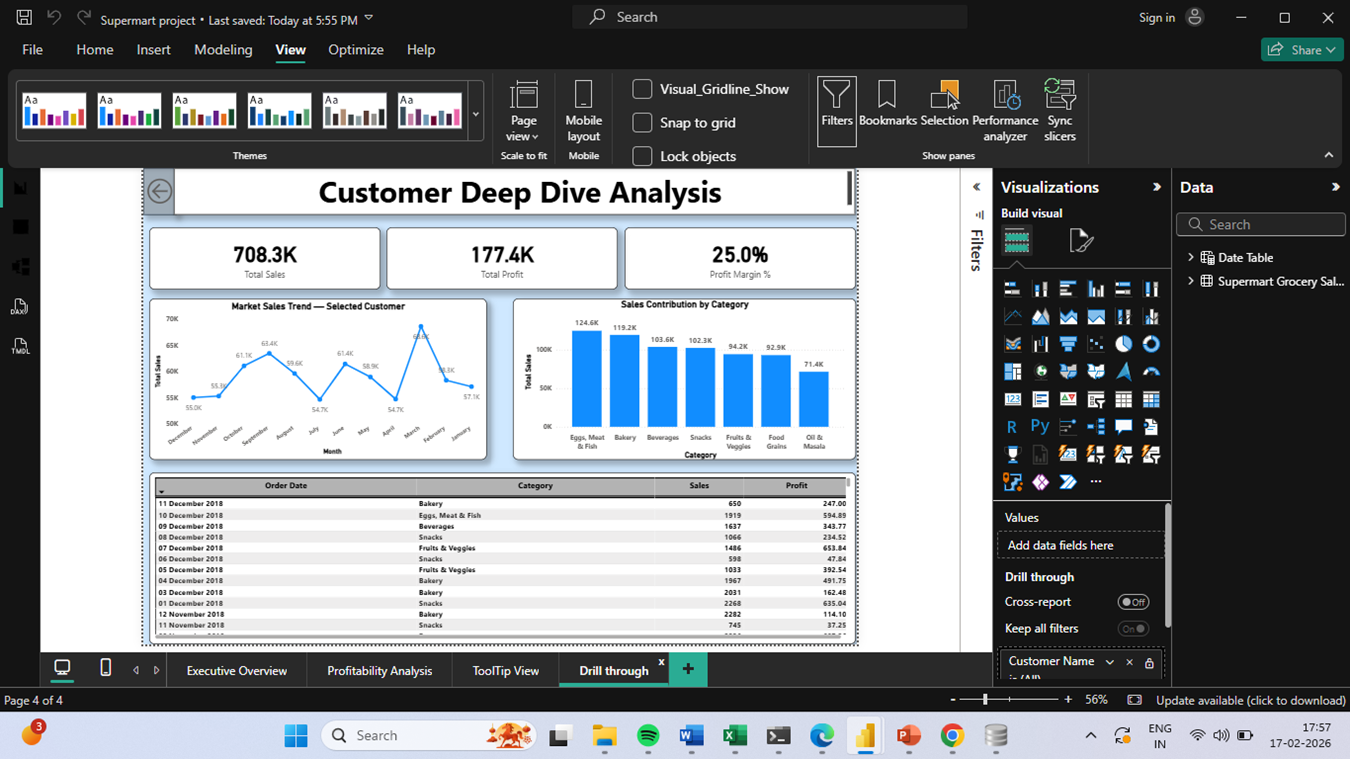

This screenshot's page, from the dashboard's own definition file:
{"tool":"powerbi","page":{"name":"Drill through","canvas":[1294,865],"ordinal":3},"visuals":[{"type":"card","fields":{"Values":["Supermart Grocery Sales - Retail Analytics Dataset (1).Total Sales"]},"box":[10.6,107.7,420.1,113],"z":0},{"type":"card","fields":{"Values":["Date Table.Profit Margin %"]},"box":[873.8,107.7,420.1,113],"z":1000},{"type":"card","fields":{"Values":["Supermart Grocery Sales - Retail Analytics Dataset (1).Total Profit"]},"box":[442.2,107.7,420.1,113],"z":2000},{"type":"lineChart","fields":{"Category":["Supermart Grocery Sales - Retail Analytics Dataset (1).Order Date.Variation.Date Hierarchy.Month"],"Y":["Supermart Grocery Sales - Retail Analytics Dataset (1).Total Sales"]},"box":[10.6,236.6,612.6,293],"z":3000},{"type":"clusteredColumnChart","title":"Sales Contribution by Category","fields":{"Category":["Supermart Grocery Sales - Retail Analytics Dataset (1).Category"],"Y":["Supermart Grocery Sales - Retail Analytics Dataset (1).Total Sales"]},"box":[670.8,236.6,623.2,293],"z":4000},{"type":"tableEx","fields":{"Values":["Supermart Grocery Sales - Retail Analytics Dataset (1).Order Date","Supermart Grocery Sales - Retail Analytics Dataset (1).Category","Supermart Grocery Sales - Retail Analytics Dataset (1).Sales","Supermart Grocery Sales - Retail Analytics Dataset (1).Profit"]},"box":[10.8,552.7,1283.1,312.3],"z":5000},{"type":"actionButton","box":[0,0,60,84.7],"z":6000},{"type":"textbox","box":[56.5,0,1237.5,84.7],"z":7000}]}

Visuals, with their boxes on the page's 1294x865 design canvas (x1, y1, x2, y2). These are canvas units, not pixel positions in the 1350x759 screenshot, which may show the page scaled, cropped or inside an application window:
card - Supermart Grocery Sales - Retail Analytics Dataset (1).Total Sales: pyautogui.locateOnScreen(11, 108, 431, 221)
card - Date Table.Profit Margin %: pyautogui.locateOnScreen(874, 108, 1294, 221)
card - Supermart Grocery Sales - Retail Analytics Dataset (1).Total Profit: pyautogui.locateOnScreen(442, 108, 862, 221)
lineChart - Supermart Grocery Sales - Retail Analytics Dataset (1).Order Date.Variation.Date Hierarchy.Month x Supermart Grocery Sales - Retail Analytics Dataset (1).Total Sales: pyautogui.locateOnScreen(11, 237, 623, 530)
"Sales Contribution by Category" clusteredColumnChart: pyautogui.locateOnScreen(671, 237, 1294, 530)
tableEx - Supermart Grocery Sales - Retail Analytics Dataset (1).Order Date x Supermart Grocery Sales - Retail Analytics Dataset (1).Category: pyautogui.locateOnScreen(11, 553, 1294, 865)
actionButton: pyautogui.locateOnScreen(0, 0, 60, 85)
textbox: pyautogui.locateOnScreen(56, 0, 1294, 85)
